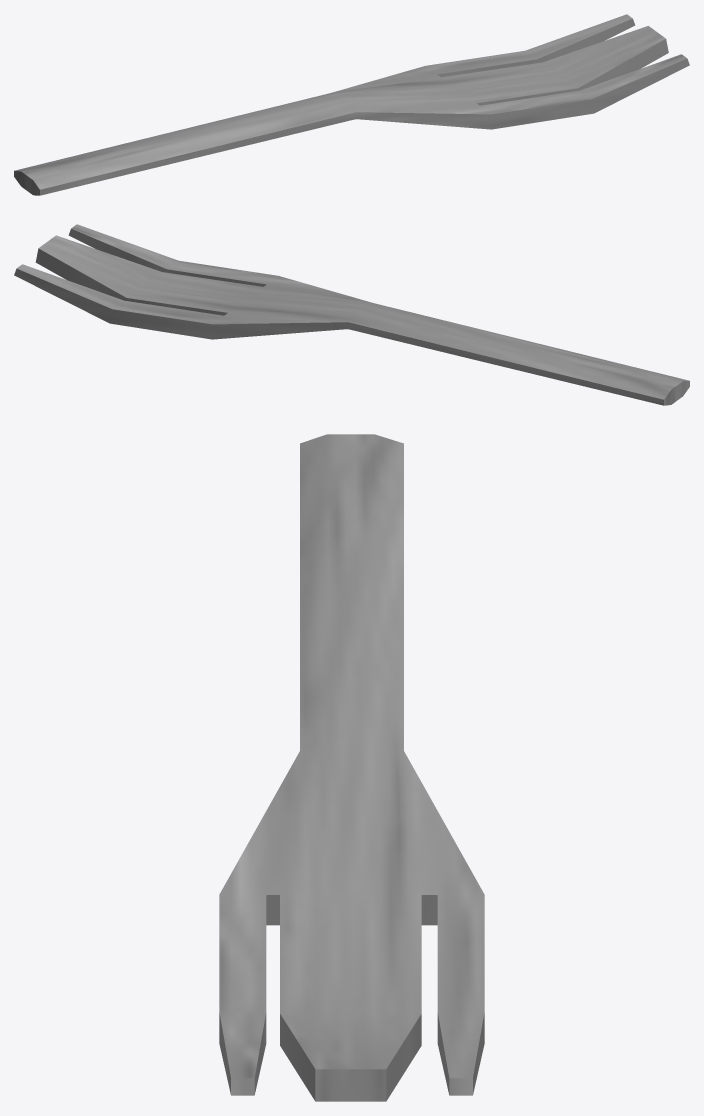
File: Fork.fbx
3 views of the same model, one above another, from view 1: azimuth 30°, elevation 25°; view 2: azimuth 150°, elevation 25°; view 3: azimuth 270°, elevation 25° (orthographic). The views are drawn at different scales.
Visible parts, largest first — view 1: Fork; view 2: Fork; view 3: Fork.
Boxes of the visible parts, bbox=[...] form: Fork: bbox=[14, 14, 689, 195]; Fork: bbox=[14, 224, 689, 405]; Fork: bbox=[219, 434, 484, 1101].
Bounding box in the file's own units: 39.29 × 2.72 × 7.14.
Materials: 1 (1 with a texture image).
